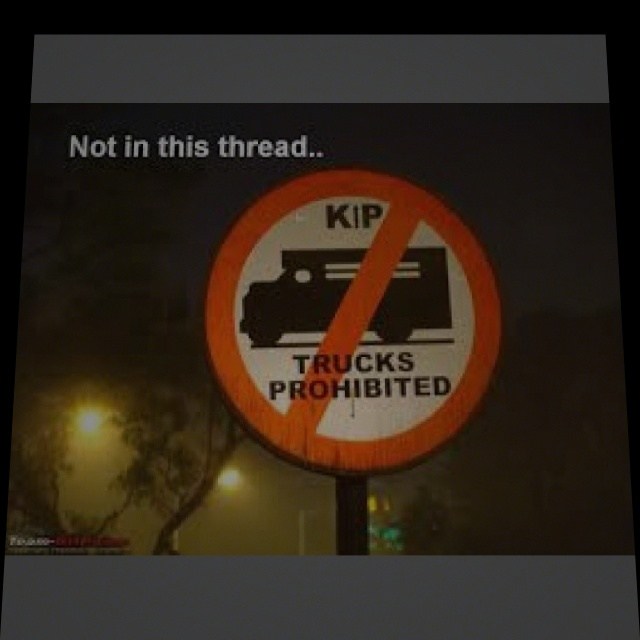Truck_Prohibited: (197, 168, 520, 477)
